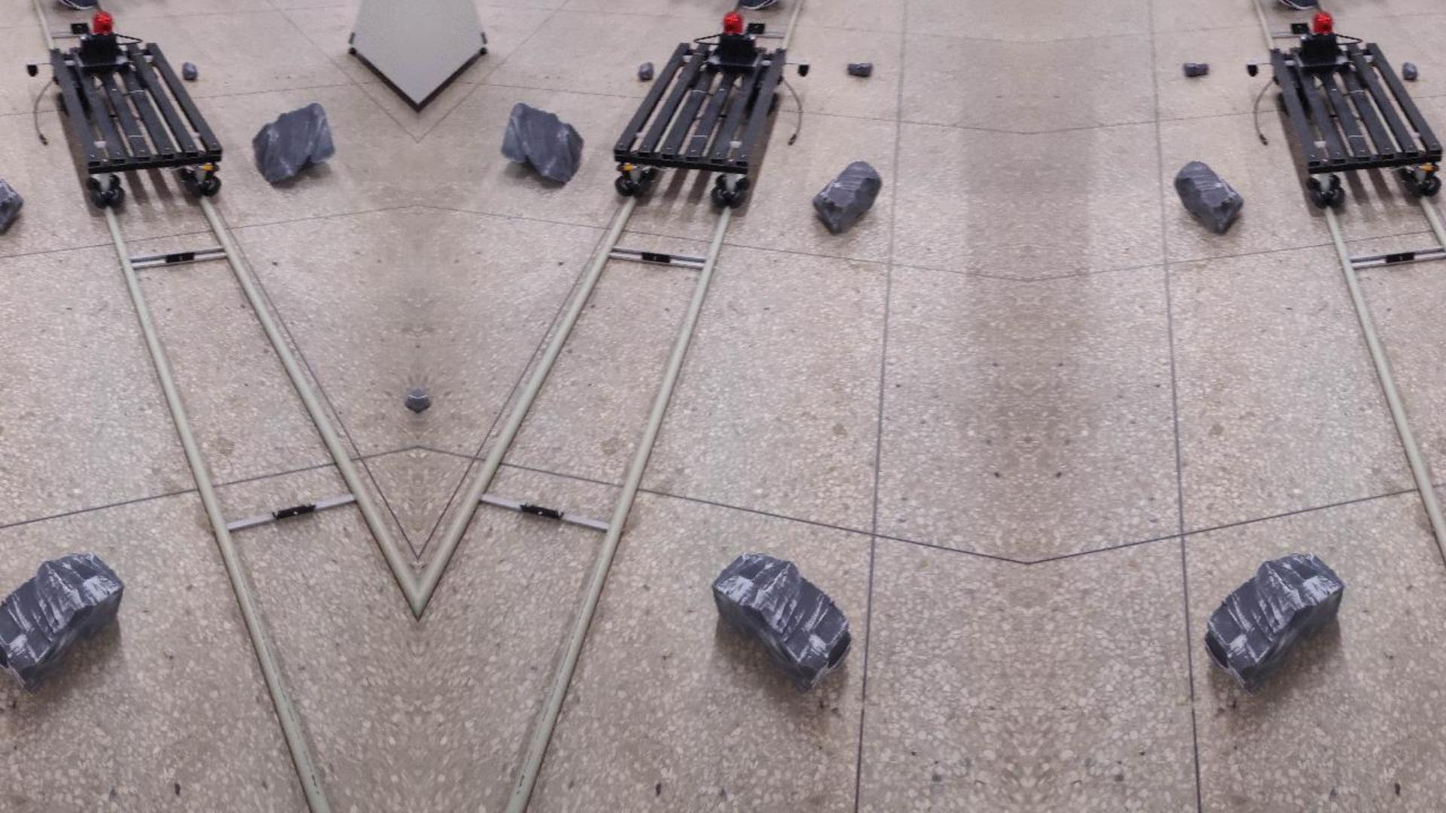rock: (1205, 552, 1343, 691), (712, 553, 850, 691), (0, 552, 122, 689), (253, 102, 334, 183), (500, 103, 583, 182), (812, 160, 881, 233), (1174, 161, 1243, 233), (0, 176, 23, 234), (1183, 63, 1209, 77), (847, 63, 872, 77), (637, 61, 653, 80), (182, 61, 198, 80), (1402, 61, 1418, 80)
